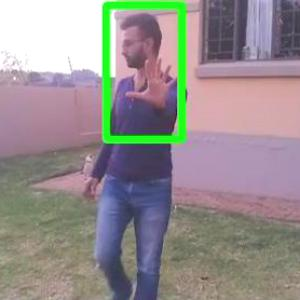follow_hand: (125, 53, 185, 110)
